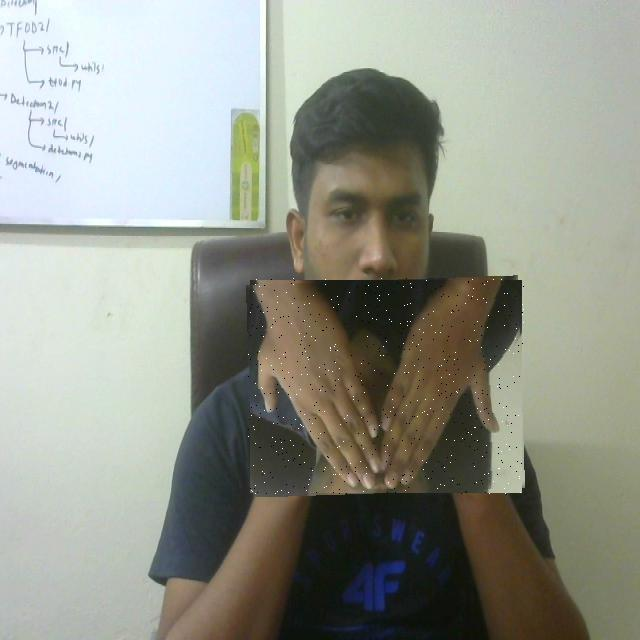Thanks: (248, 278, 524, 495)
